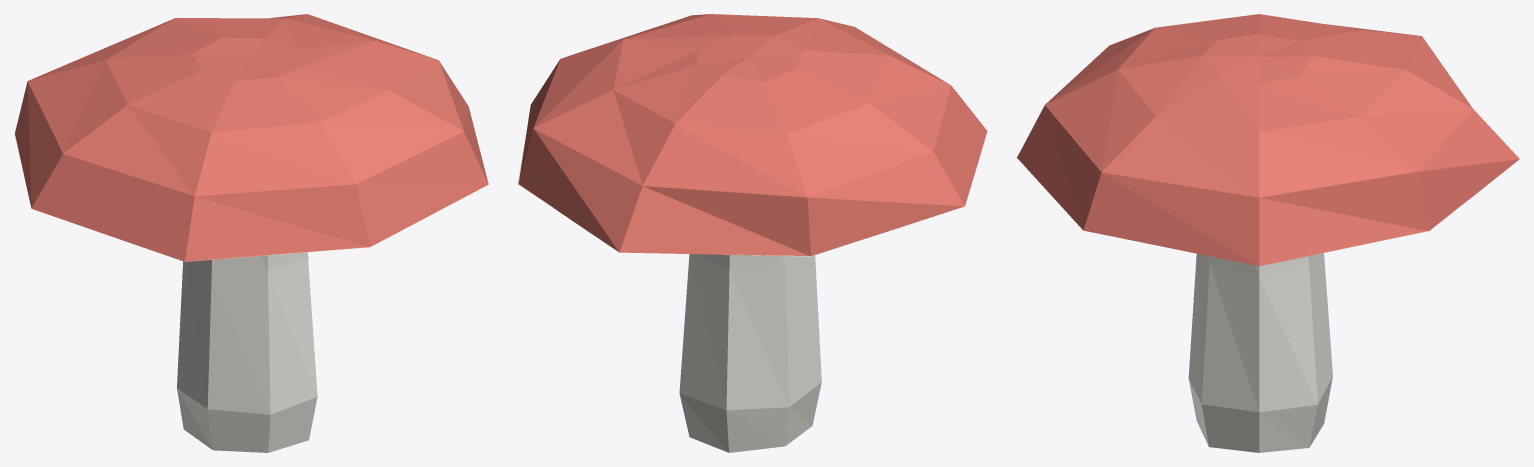
Rendered from safe_russula.glb.
3 views of the same model, side by side, from view 1: azimuth 30°, elevation 25°; view 2: azimuth 150°, elevation 25°; view 3: azimuth 270°, elevation 25° (orthographic).
Visible parts, largest first — view 1: Safe_Russula_Cap, Safe_Russula_Stem; view 2: Safe_Russula_Cap, Safe_Russula_Stem; view 3: Safe_Russula_Cap, Safe_Russula_Stem.
Boxes of the visible parts, x1,y1,x2,y2 form: Safe_Russula_Cap: [14, 14, 488, 261]; Safe_Russula_Stem: [177, 252, 317, 452]; Safe_Russula_Cap: [517, 14, 987, 256]; Safe_Russula_Stem: [679, 254, 821, 452]; Safe_Russula_Cap: [1016, 14, 1519, 266]; Safe_Russula_Stem: [1188, 253, 1332, 452].
Bounding box in the file's own units: 1.01 × 0.8289 × 1.01.
